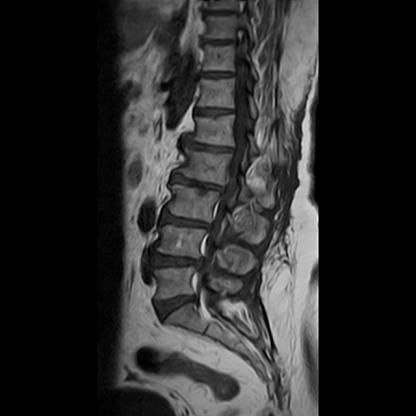Disc Bulgerotation: (139, 245, 207, 289), (156, 205, 217, 236), (152, 292, 206, 324), (165, 172, 228, 196)
